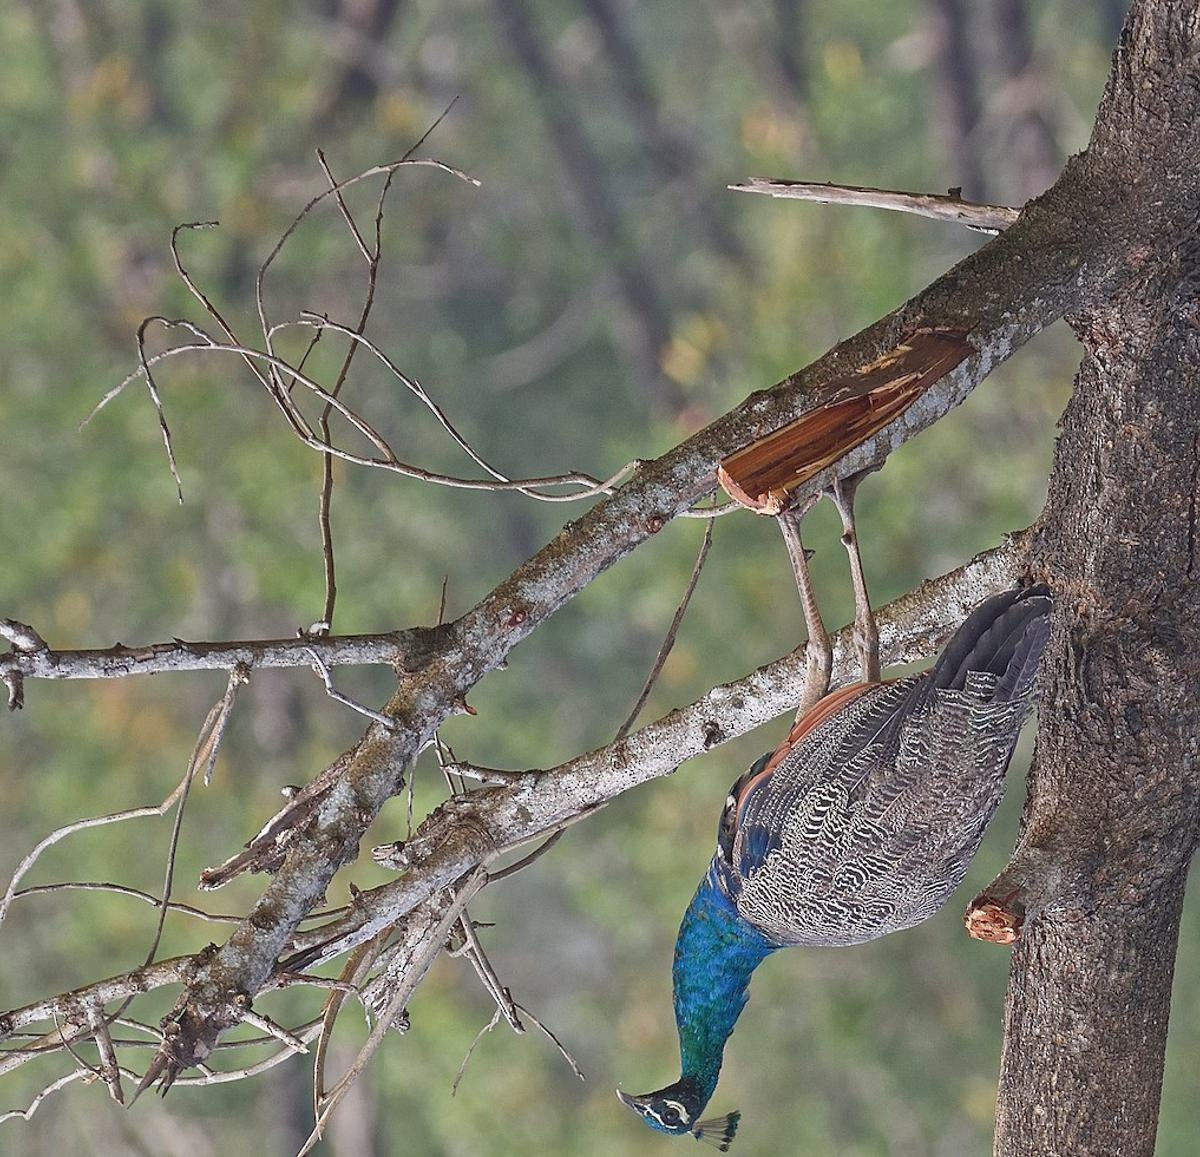peacock: (415, 511, 1134, 1157)
